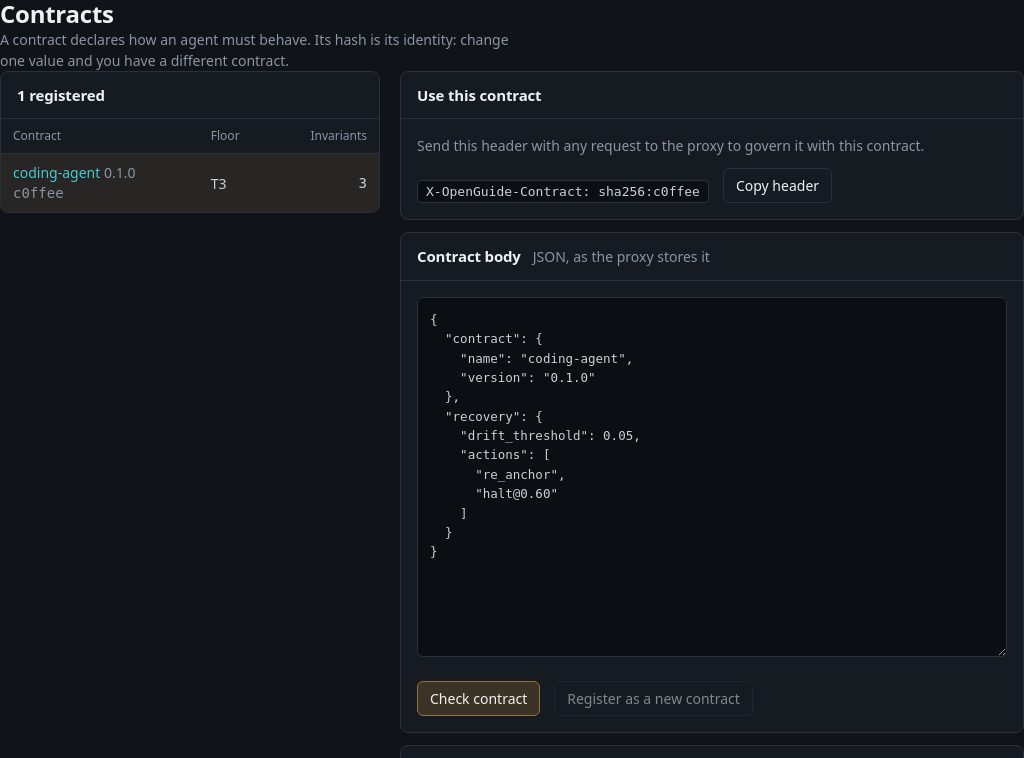
Test: contract registration › says so when the header can't be copied
Click the button "Copy header": x=777, y=186 [723,168,832,203]
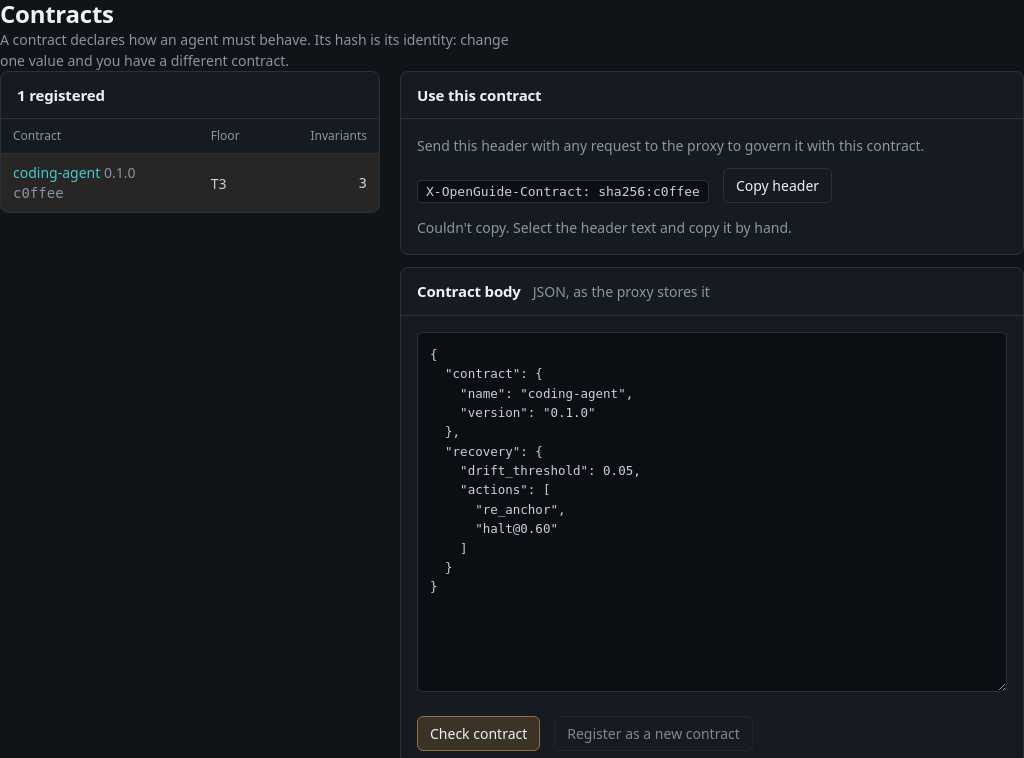
Result: the text "Couldn't copy. Select the header text and copy it by hand." is shown at [417,217,792,238]
